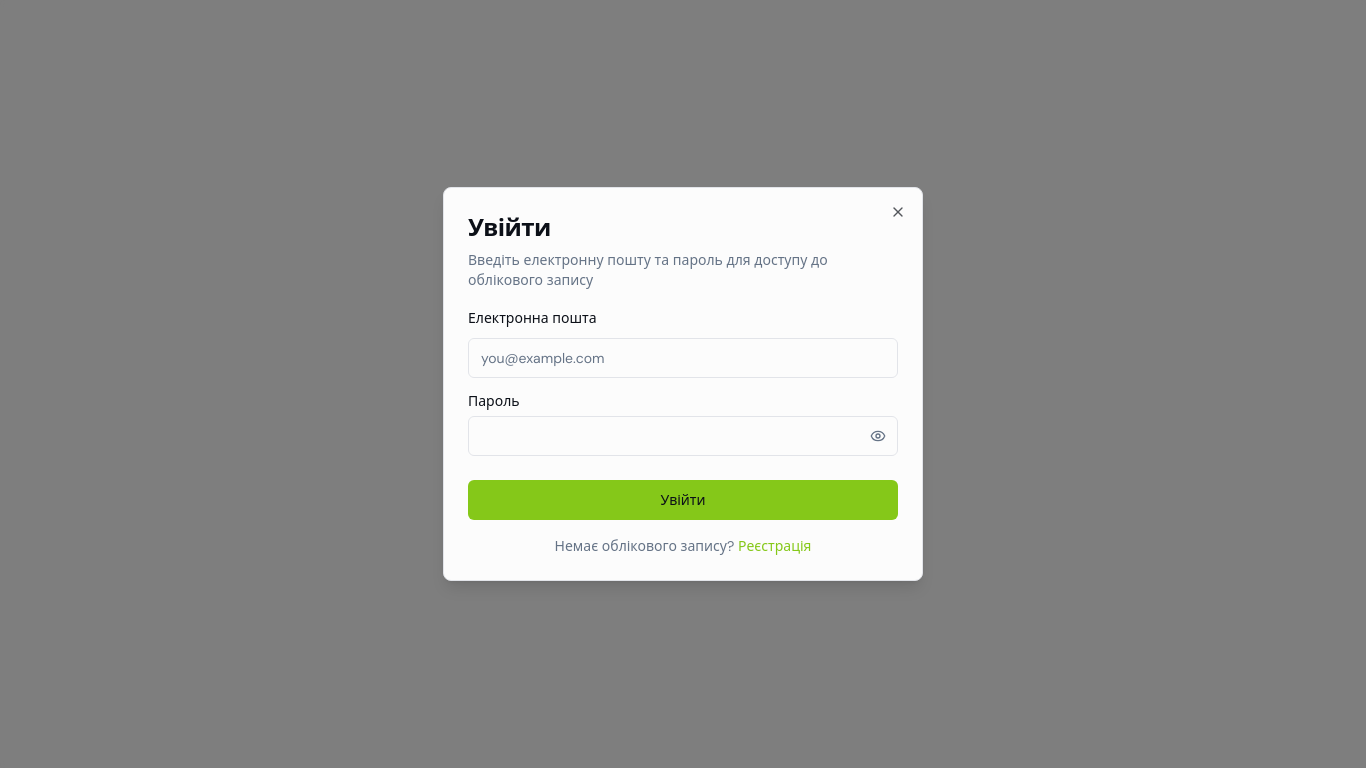
Test: credentials the server refused, in uk › falls back to one generic line for a failure it cannot name
Type "user@test.com" into the field labelled "Електронна пошта" at point(683, 358), box [468,338,898,378]
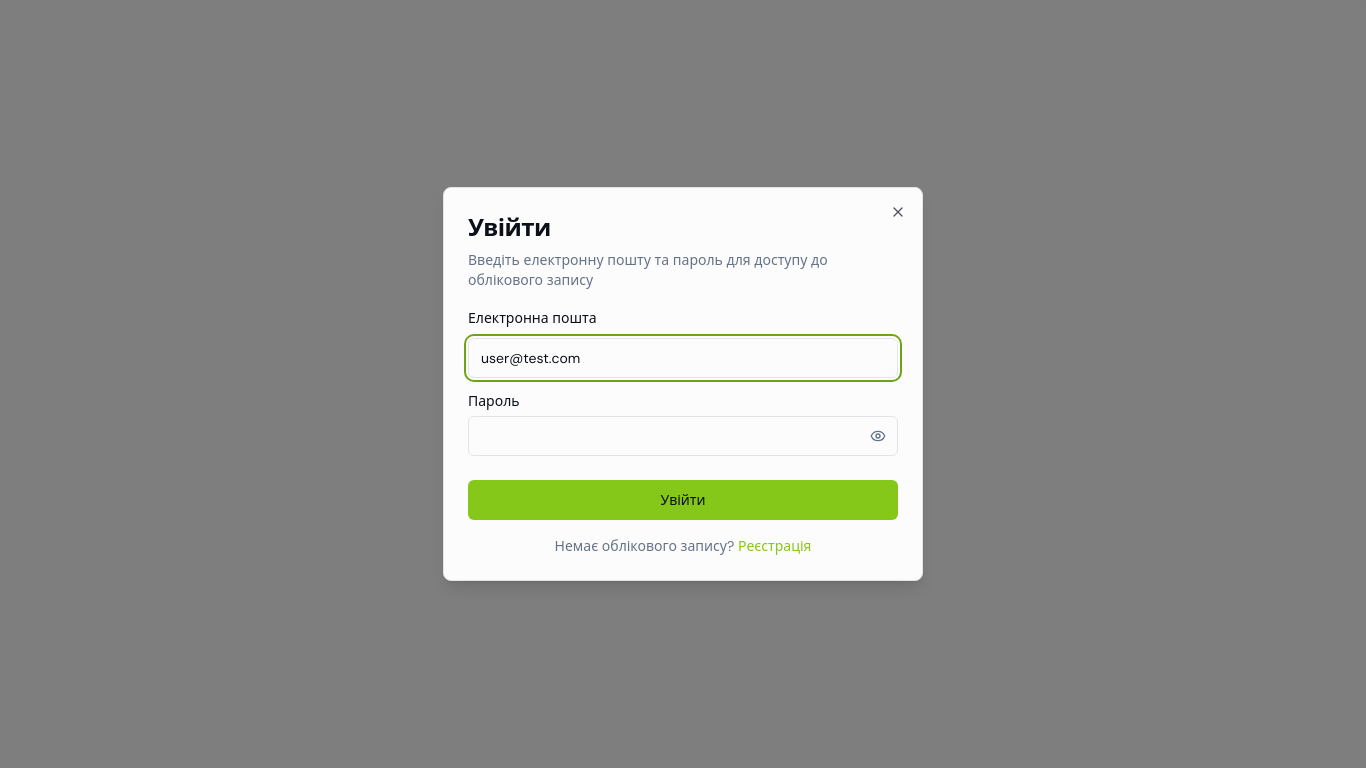
Type "validpass1" into the password field labelled "Пароль" at point(683, 436), box [468,416,898,456]
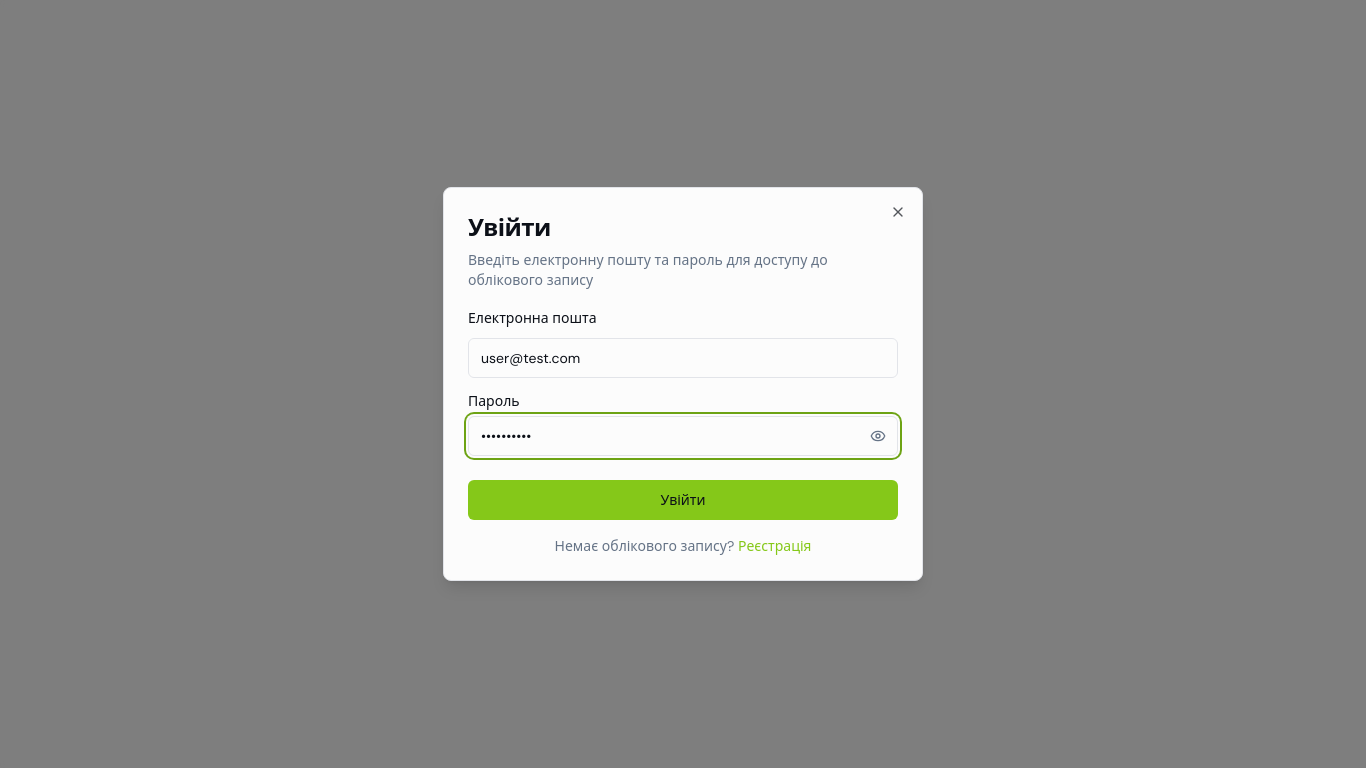
Click the button "Увійти" at point(683, 500), box [468,480,898,520]
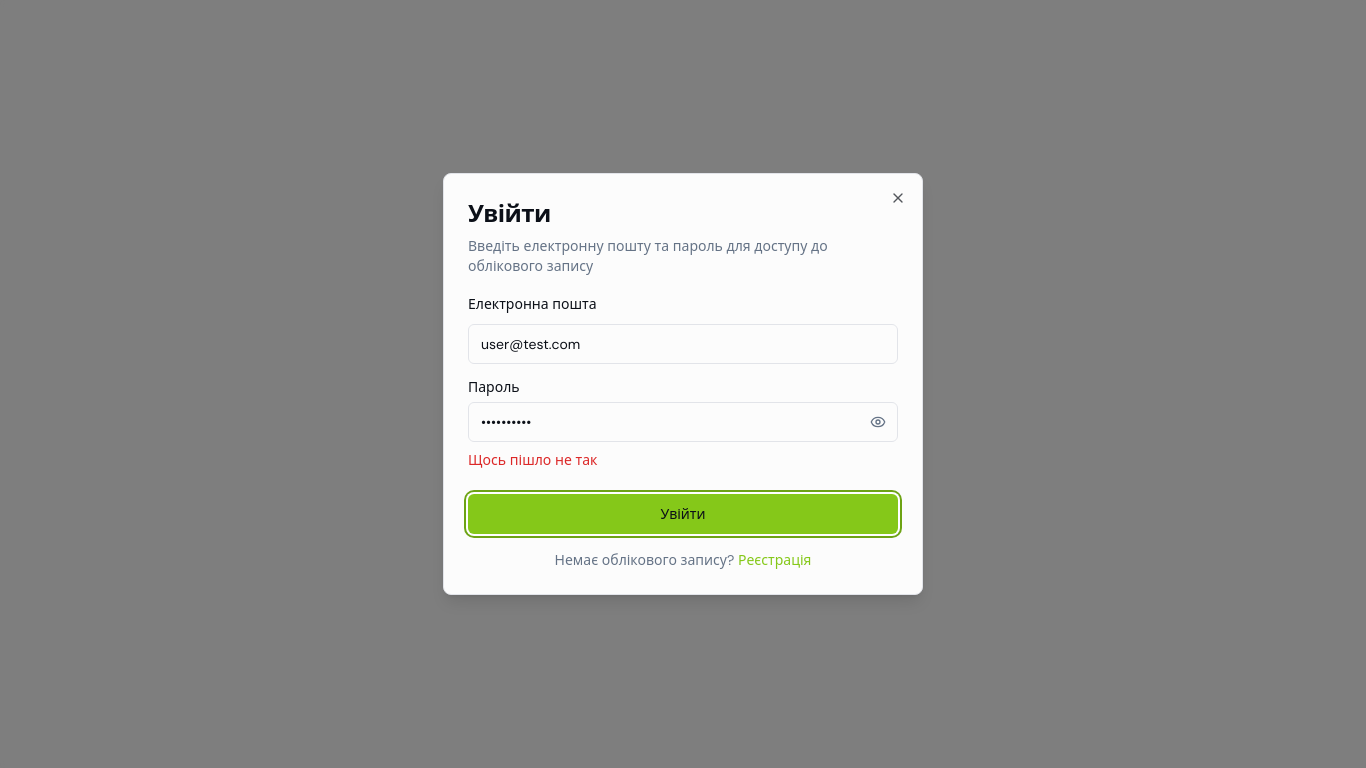
expect the text "Щось пішло не так" is shown: met, box [468,451,598,469]
